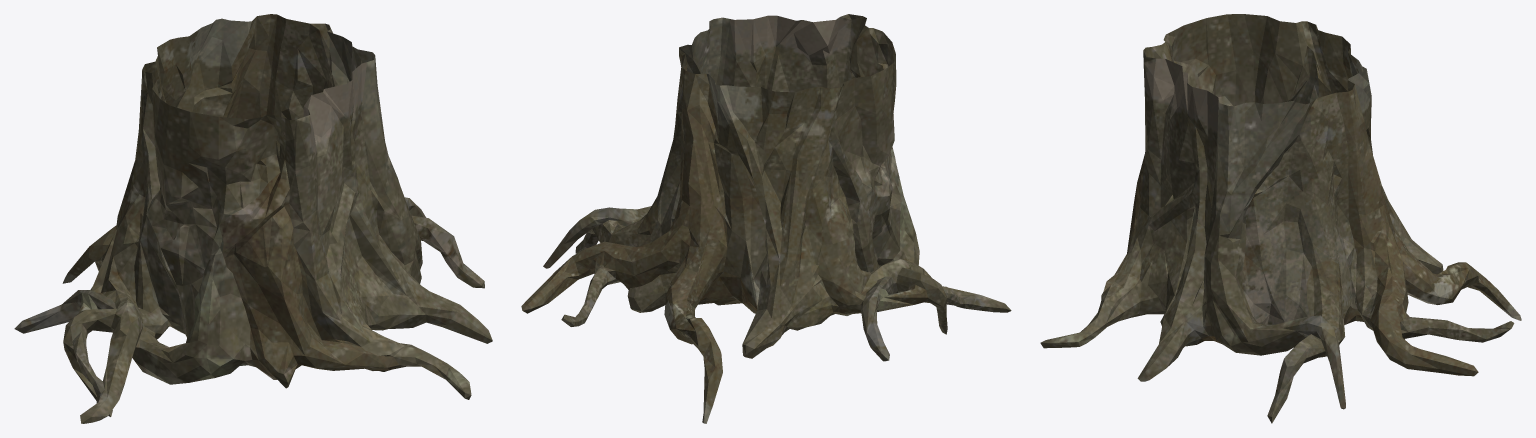
File: House28.fbx
The picture shows the model from 3 angles, left to right: view 1: azimuth 30°, elevation 25°; view 2: azimuth 150°, elevation 25°; view 3: azimuth 270°, elevation 25°; orthographic projection. The views are drawn at different scales.
Visible parts, largest first — view 1: AT_BGAgo_GiantTree_A02_10B.mo; view 2: AT_BGAgo_GiantTree_A02_10B.mo; view 3: AT_BGAgo_GiantTree_A02_10B.mo.
Part boxes in pixels (<box>): AT_BGAgo_GiantTree_A02_10B.mo: <box>14,14,492,423</box>; AT_BGAgo_GiantTree_A02_10B.mo: <box>521,14,1011,423</box>; AT_BGAgo_GiantTree_A02_10B.mo: <box>1040,14,1521,423</box>.
Bounding box in the file's own units: 1232 × 806 × 1247.
